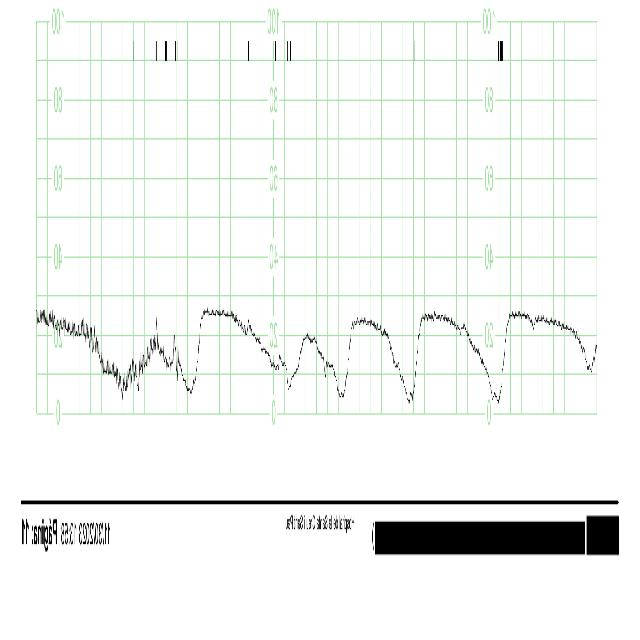contraction: (415, 309, 496, 407), (196, 309, 280, 384), (348, 317, 407, 398), (508, 303, 584, 365), (293, 328, 338, 394)
